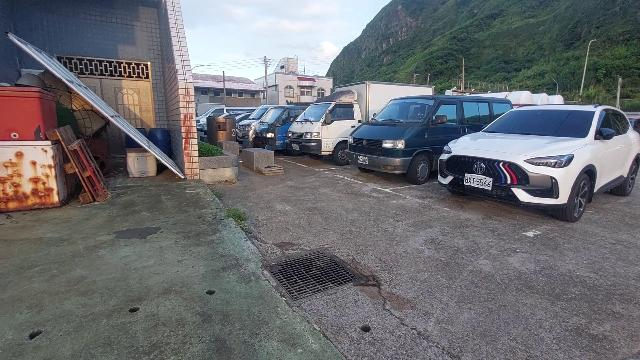pollute: (1, 69, 114, 214), (126, 146, 160, 179), (134, 128, 172, 156)
